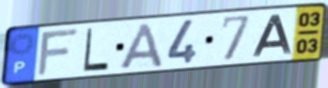4: (165, 18, 201, 66)
7: (221, 13, 253, 62)
A: (117, 22, 165, 71), (250, 13, 294, 58)
F: (35, 27, 81, 79)
L: (81, 27, 111, 74)
